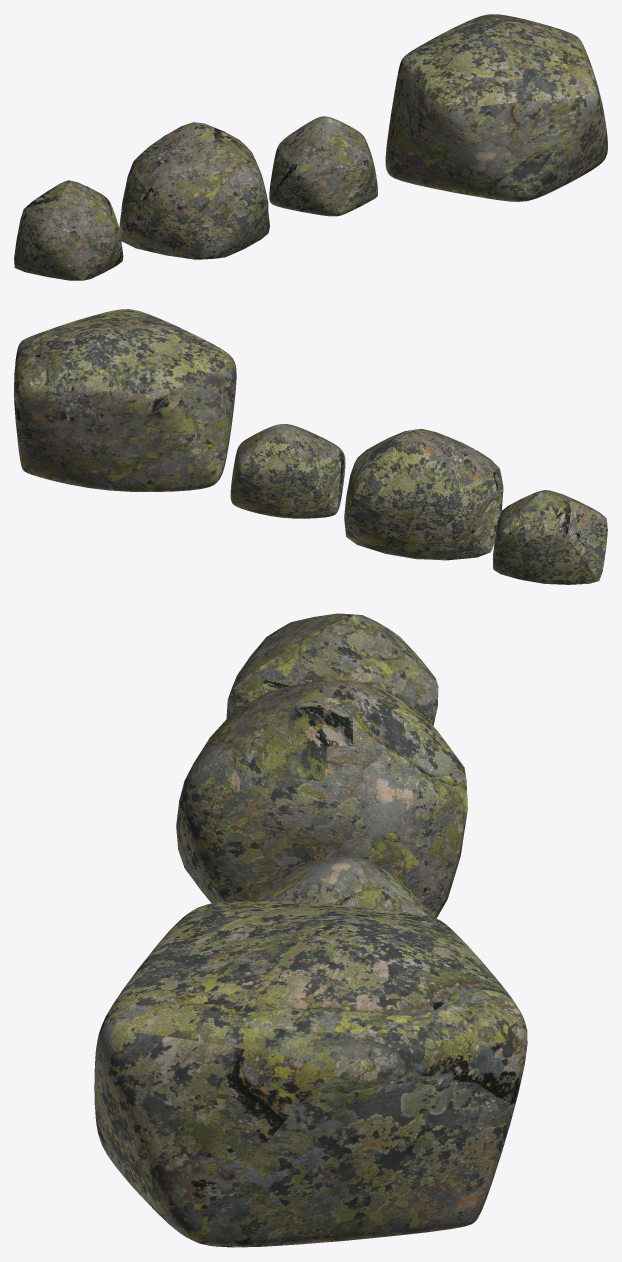
File: rocks.glb
3 renders of one model, top to bottom at view 1: azimuth 30°, elevation 25°; view 2: azimuth 150°, elevation 25°; view 3: azimuth 270°, elevation 25°, orthographic. The views are drawn at different scales.
Parts seen in each view (by area): view 1: Rock4, Rock2, Rock3, Rock1; view 2: Rock4, Rock2, Rock1, Rock3; view 3: Rock4, Rock2, Rock3, Rock1.
Boxes of the visible parts, <box> form: Rock4: <box>385,14,607,201</box>; Rock2: <box>119,122,269,259</box>; Rock3: <box>14,180,123,280</box>; Rock1: <box>269,116,377,216</box>; Rock4: <box>14,309,236,491</box>; Rock2: <box>344,429,503,560</box>; Rock1: <box>230,424,345,518</box>; Rock3: <box>492,490,607,584</box>; Rock4: <box>94,900,527,1247</box>; Rock2: <box>176,680,467,918</box>; Rock3: <box>226,613,438,726</box>; Rock1: <box>250,857,431,916</box>.
Size of the model in its own units: 2.45 by 0.5576 by 0.8139.
Materials: 1 (1 with a texture image).
